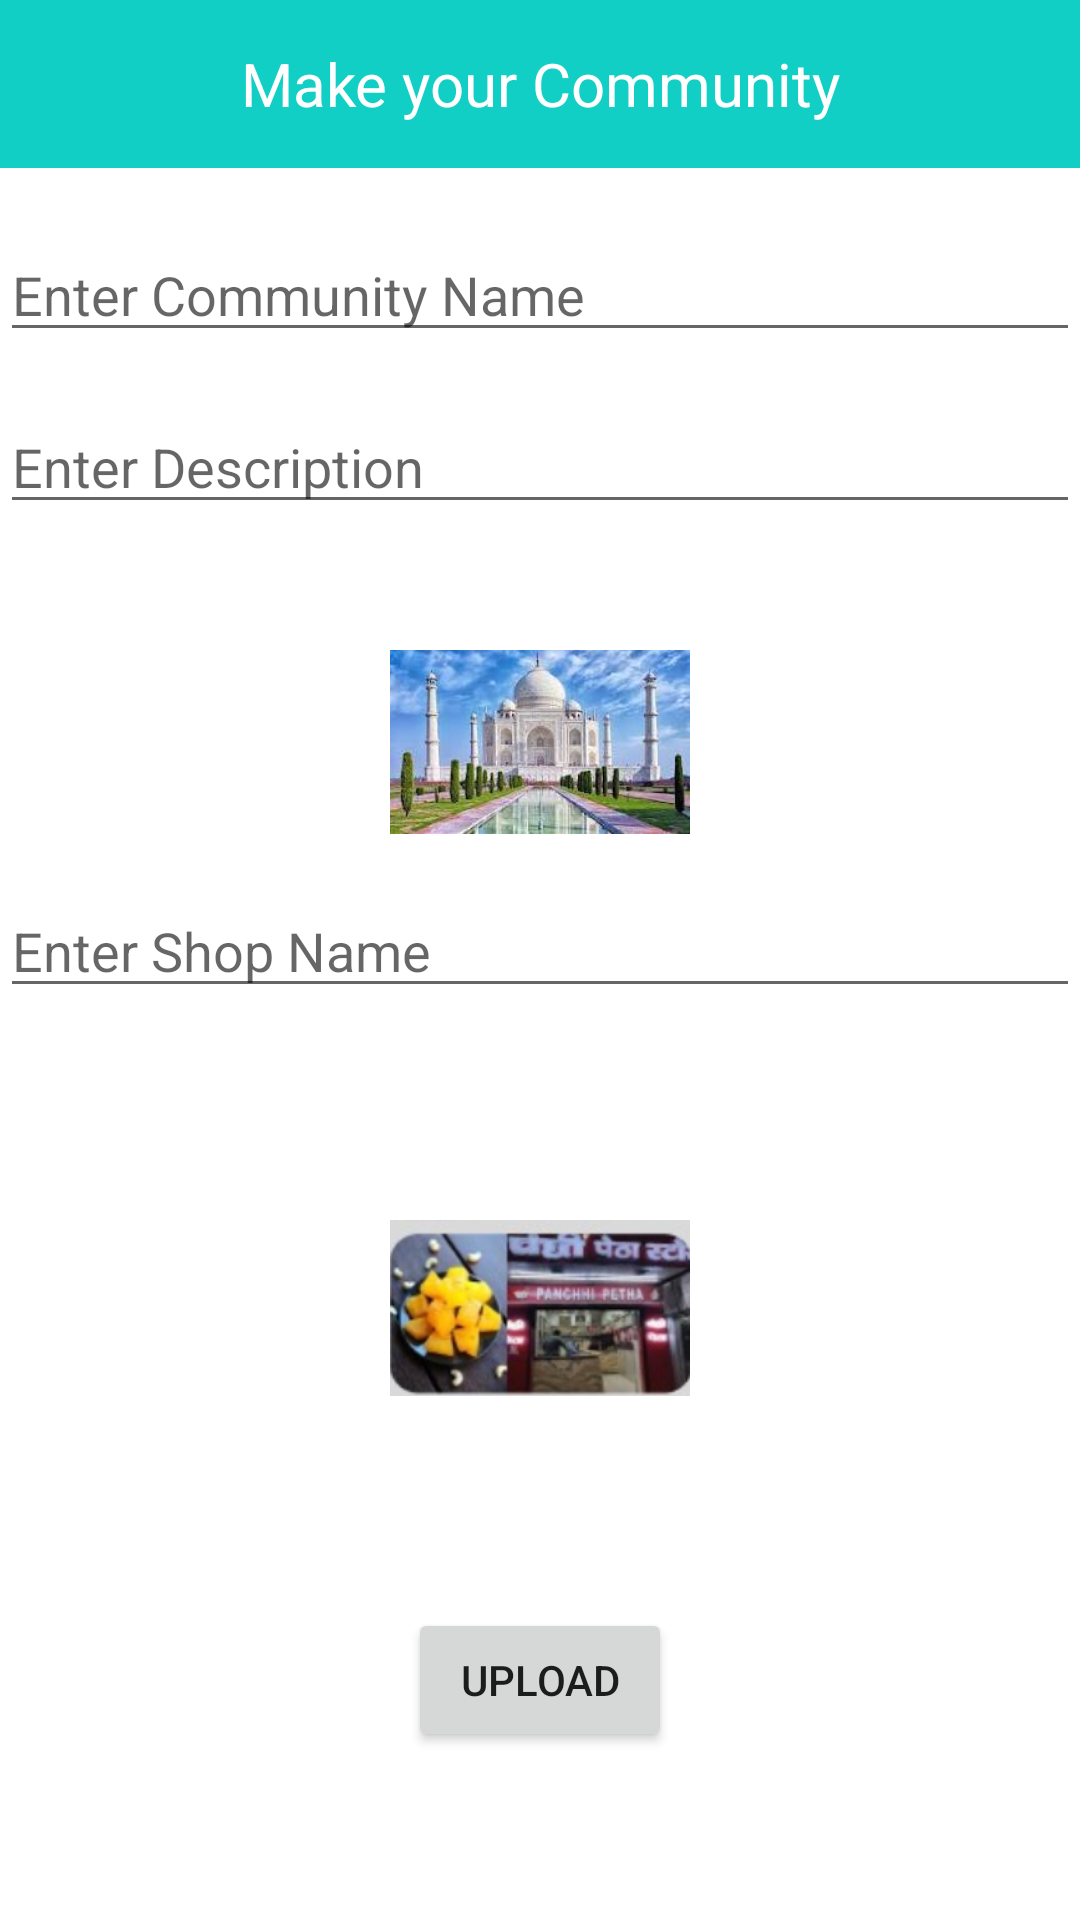

Named icons in this screenshot (1080×1920) and their bounding boxes, region(x1, y1, x2, y2):
Community DP: region(390, 650, 690, 834)
